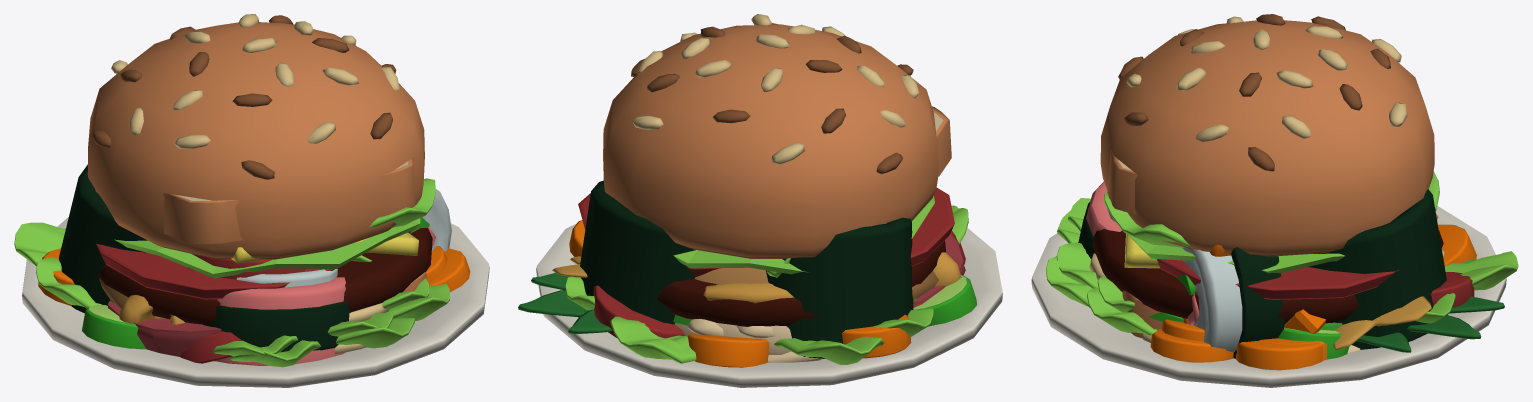
Rendered from PlateFoods.fbx.
The picture shows the model from 3 angles, left to right: view 1: azimuth 30°, elevation 25°; view 2: azimuth 150°, elevation 25°; view 3: azimuth 270°, elevation 25°; orthographic projection.
Visible parts, largest first — view 1: HamburgerBun, Sushi, Salad, Sandwich, FishWithVeg, CookedSteak; view 2: HamburgerBun, Sushi, Salad, FishWithVeg, CookedSteak, Sandwich; view 3: HamburgerBun, Sushi, Salad, FishWithVeg, Sandwich.
Part boxes in pixels (x1=…): HamburgerBun: x1=87, y1=14, x2=432, y2=324; Sushi: x1=22, y1=164, x2=489, y2=387; Salad: x1=14, y1=222, x2=470, y2=367; Sandwich: x1=163, y1=158, x2=435, y2=292; FishWithVeg: x1=38, y1=246, x2=447, y2=362; CookedSteak: x1=108, y1=301, x2=367, y2=361; HamburgerBun: x1=578, y1=14, x2=954, y2=326; Sushi: x1=536, y1=180, x2=1002, y2=387; Salad: x1=518, y1=205, x2=976, y2=367; FishWithVeg: x1=552, y1=207, x2=968, y2=363; CookedSteak: x1=674, y1=234, x2=965, y2=362; Sandwich: x1=766, y1=106, x2=951, y2=277; HamburgerBun: x1=1092, y1=14, x2=1443, y2=330; Sushi: x1=1031, y1=181, x2=1506, y2=387; Salad: x1=1046, y1=171, x2=1504, y2=370; FishWithVeg: x1=1056, y1=198, x2=1518, y2=360; Sandwich: x1=1104, y1=150, x2=1192, y2=338.
Bounding box in the file's own units: 110 × 74.83 × 113.
